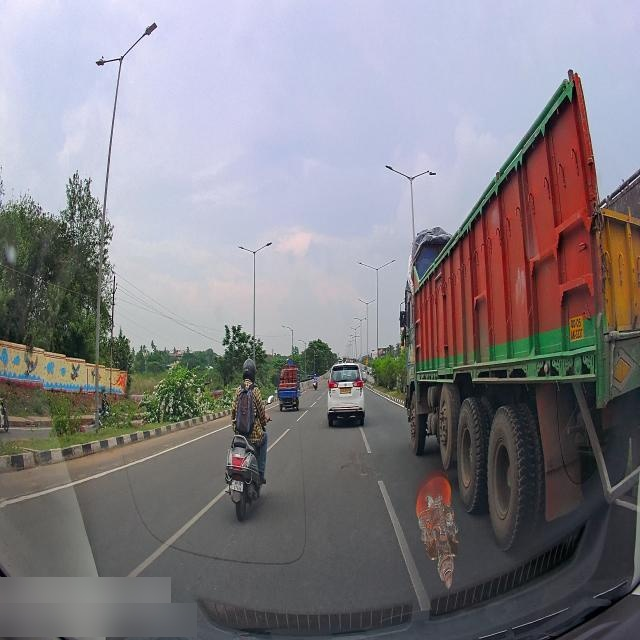pothole: (340, 453, 373, 482)
